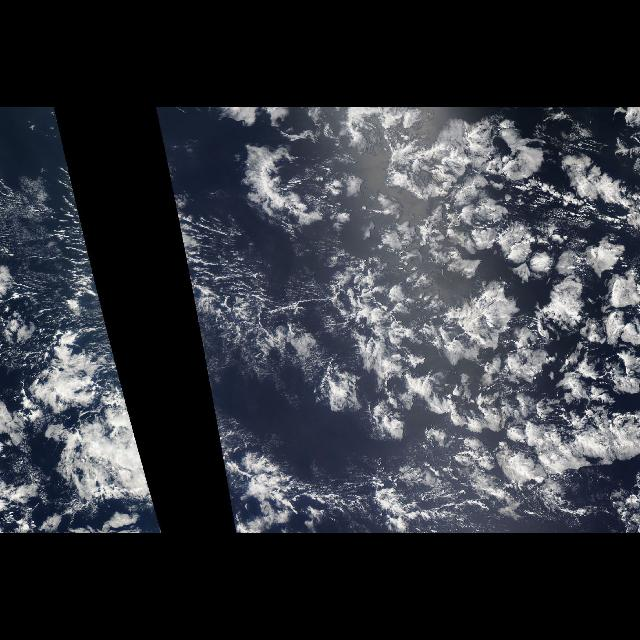Flower: (217, 107, 639, 503)
